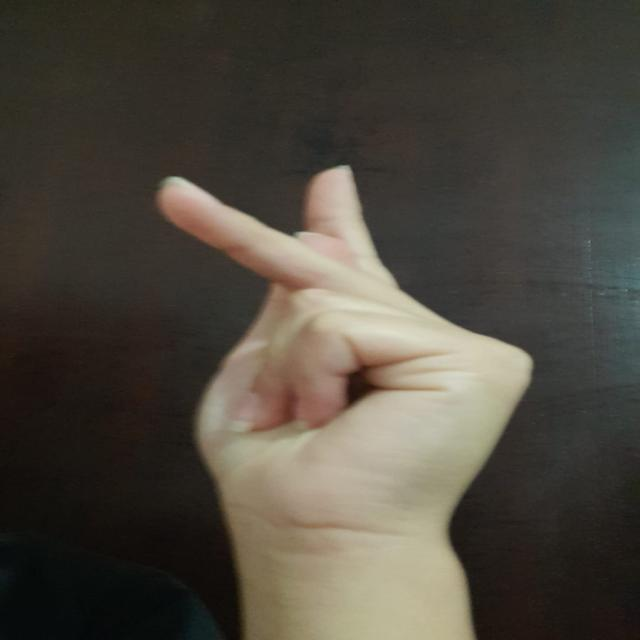K: (139, 162, 548, 522)
